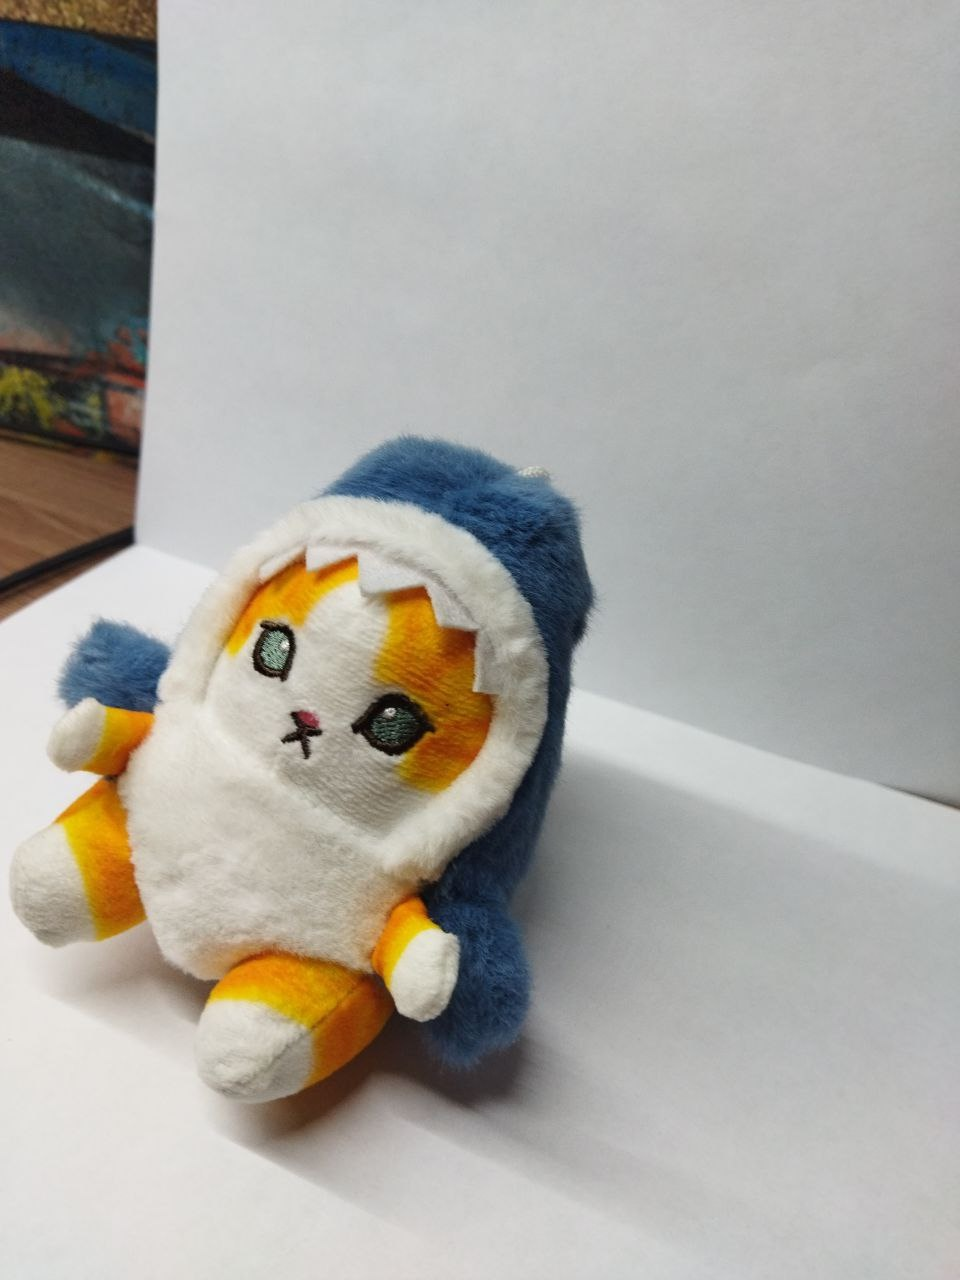Snark Cat: (32, 443, 585, 1093)
